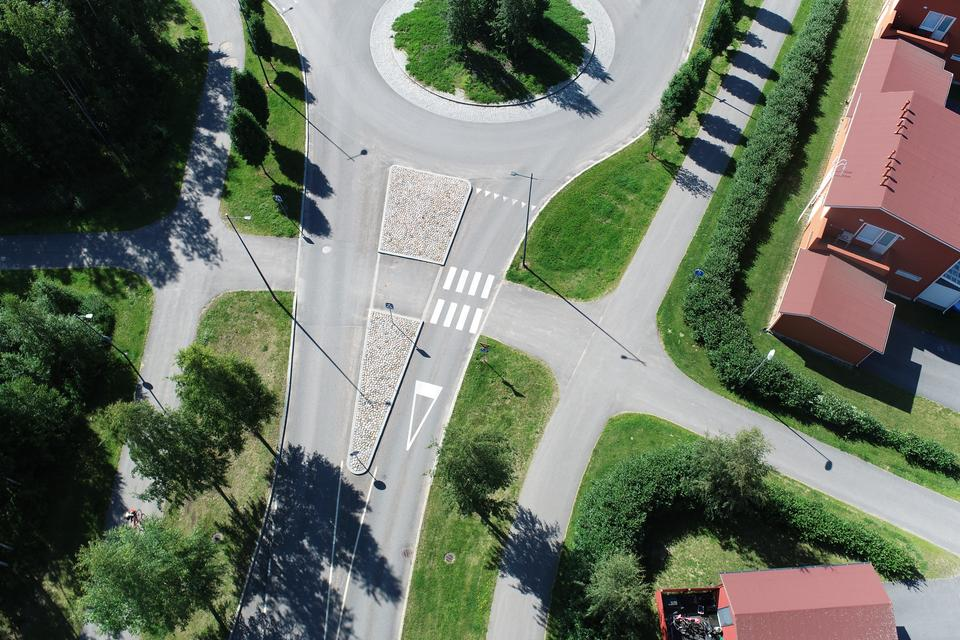intersection: (263, 244, 694, 446)
roundabout: (237, 0, 699, 183)
